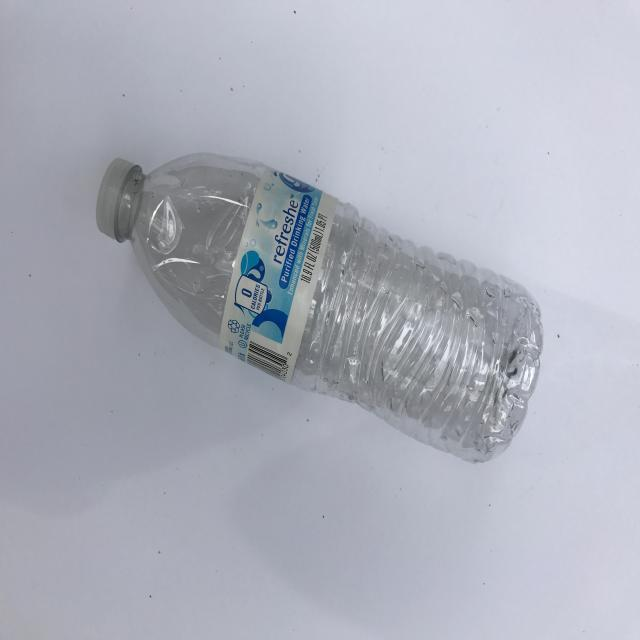plastic: (91, 144, 547, 472)
